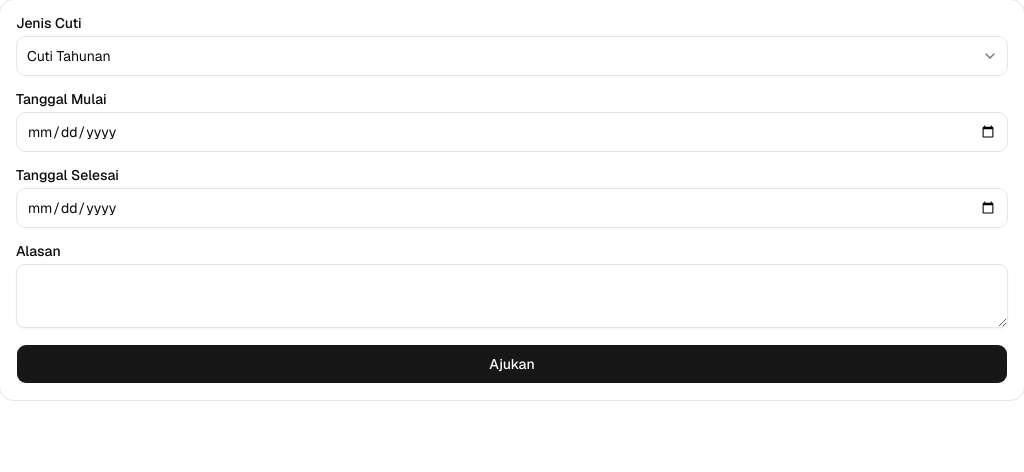
Test: LeaveForm › shows an error message when submitLeave returns ok: false
Click the button "Ajukan": (512, 364) left=16, top=344, right=1008, bottom=384
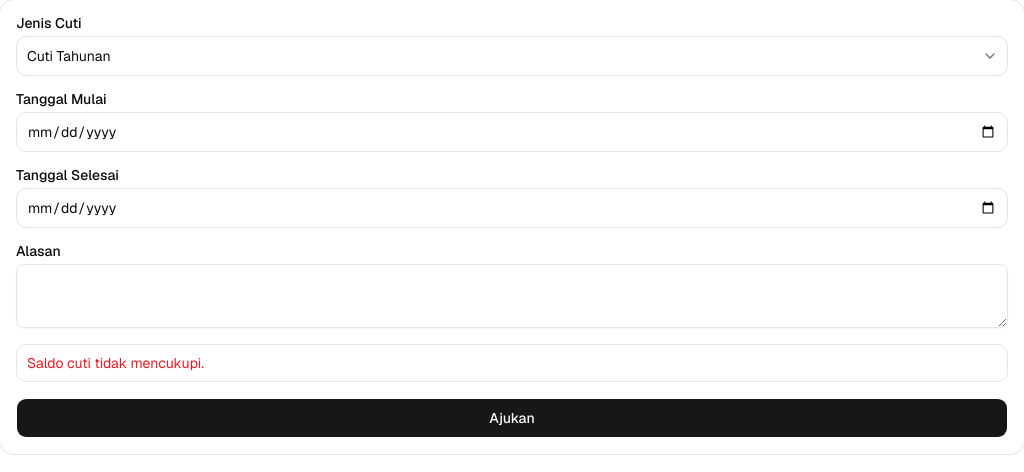
Result: the text "Saldo cuti tidak mencukupi." is shown at left=27, top=354, right=204, bottom=372
